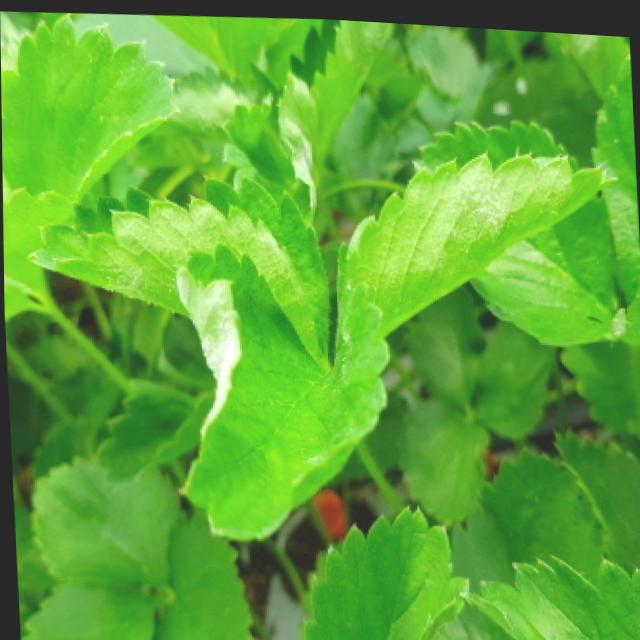Powdery Mildew Leaf: (333, 112, 623, 344), (174, 239, 390, 538), (22, 172, 328, 355), (551, 26, 630, 94)
